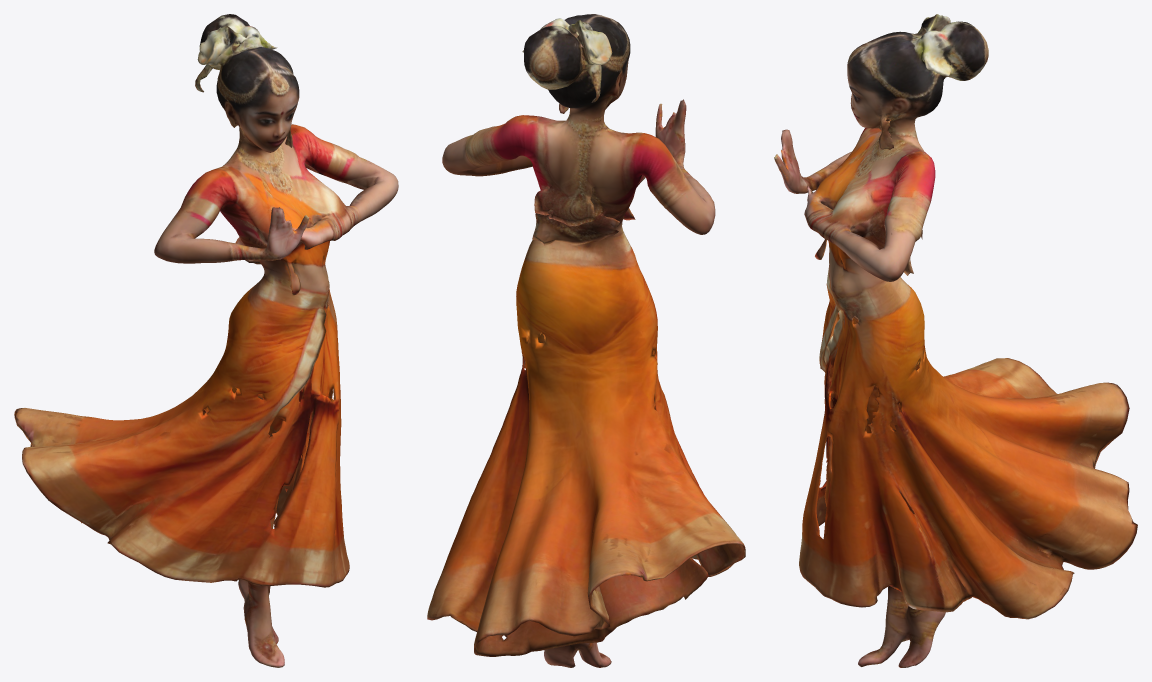
3 views of the same model, side by side, from view 1: azimuth 30°, elevation 25°; view 2: azimuth 150°, elevation 25°; view 3: azimuth 270°, elevation 25° (orthographic). The views are drawn at different scales.
Visible parts, largest first — view 1: Mesh_0; view 2: Mesh_0; view 3: Mesh_0.
Part boxes in pixels (box(x1,y1,x2,y2)): Mesh_0: box(14, 14, 398, 667); Mesh_0: box(427, 14, 745, 667); Mesh_0: box(774, 14, 1137, 667).
Size of the model in its own units: 1.09 by 2 by 1.02.
Materials: 1 (1 with a texture image).
